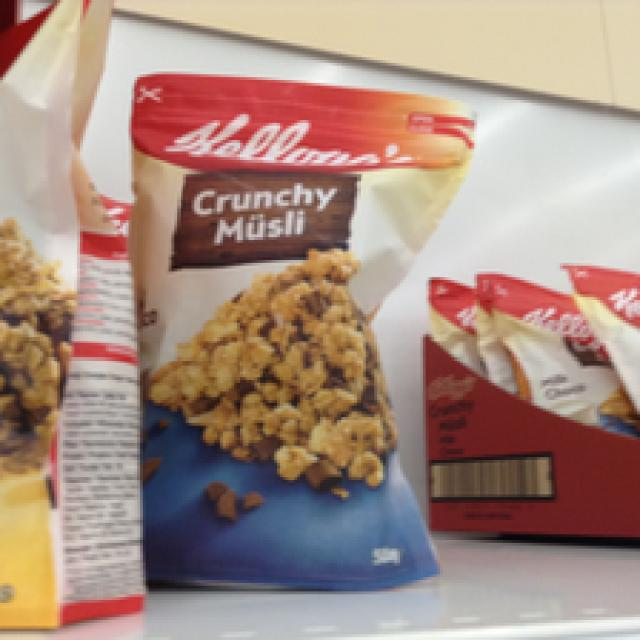groceries: (126, 71, 477, 592)
